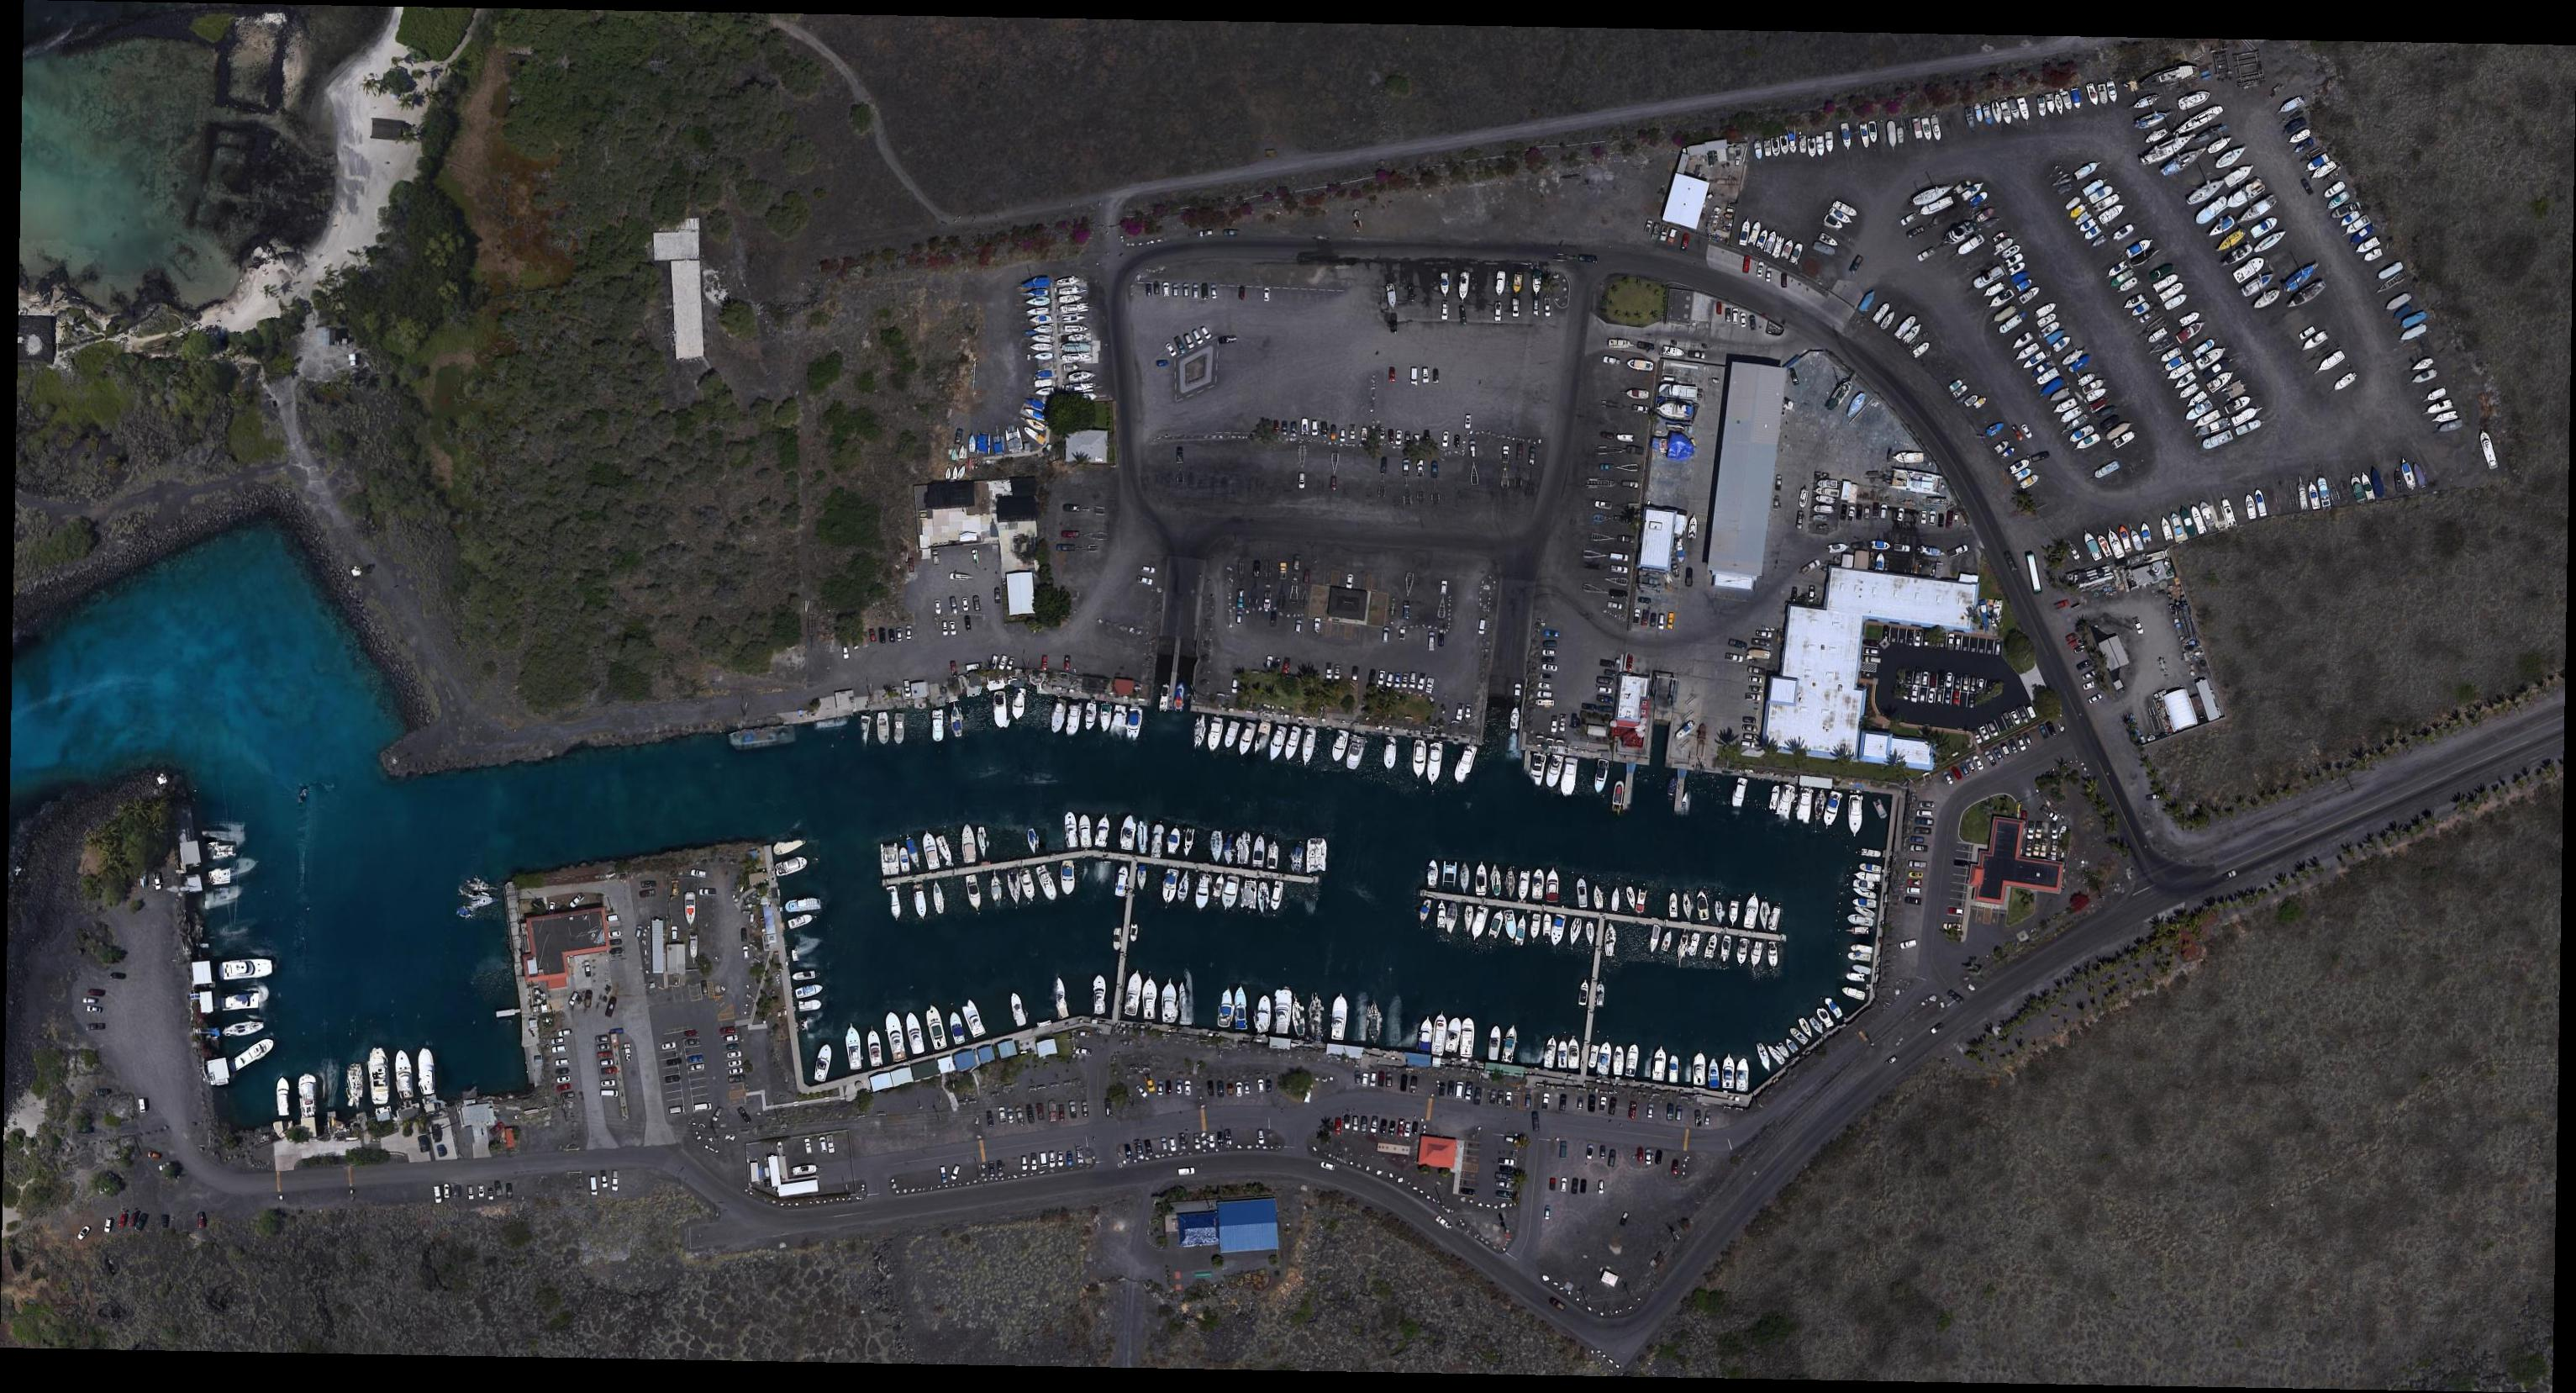ship: (2137, 131, 2194, 171), (226, 1036, 278, 1075), (2137, 61, 2200, 93), (2171, 104, 2225, 140), (2159, 144, 2208, 180), (728, 726, 796, 750), (2236, 193, 2279, 227), (2184, 176, 2227, 208), (2287, 277, 2328, 311), (2282, 260, 2323, 294), (368, 1048, 392, 1105), (206, 856, 259, 881), (2193, 195, 2231, 230), (2226, 178, 2267, 210), (923, 1003, 949, 1052), (884, 1012, 909, 1063), (1451, 743, 1479, 786), (1825, 375, 1857, 413), (392, 1049, 415, 1102), (1941, 219, 1980, 249), (220, 958, 273, 980), (202, 883, 245, 910), (960, 999, 988, 1039), (2231, 254, 2267, 286), (2239, 270, 2275, 301), (1122, 968, 1145, 1017), (1272, 989, 1294, 1037), (1034, 863, 1061, 904), (2251, 228, 2289, 256), (903, 1011, 927, 1056), (1911, 183, 1954, 208), (844, 1022, 865, 1072), (1329, 994, 1350, 1041), (2213, 144, 2247, 172), (417, 1048, 437, 1096), (2132, 109, 2172, 134), (811, 1043, 835, 1084), (2220, 243, 2253, 271), (2222, 162, 2256, 190), (1343, 734, 1368, 771), (1557, 756, 1579, 798), (1266, 725, 1289, 763), (1973, 265, 2006, 292), (771, 833, 808, 857), (2479, 430, 2500, 472), (1430, 1013, 1450, 1058), (1931, 204, 1967, 230), (2214, 228, 2247, 255), (2315, 349, 2347, 376), (2176, 88, 2212, 113), (1821, 790, 1843, 830), (2193, 122, 2228, 146), (2175, 319, 2207, 346), (1918, 196, 1956, 219), (1219, 875, 1241, 913), (921, 831, 942, 872), (1657, 383, 1699, 403), (1425, 741, 1444, 786), (774, 856, 810, 879), (1289, 999, 1309, 1039), (1500, 1024, 1520, 1064), (866, 1026, 885, 1068), (224, 1020, 266, 1039), (2205, 214, 2236, 240), (1250, 721, 1272, 757), (1469, 905, 1490, 943), (1052, 978, 1071, 1021), (346, 1063, 364, 1107), (1776, 784, 1799, 819), (1656, 401, 1694, 421), (1047, 698, 1068, 735), (299, 1074, 318, 1116), (2097, 202, 2126, 228), (1309, 995, 1325, 1042), (2299, 329, 2330, 354), (199, 822, 245, 839), (1160, 868, 1181, 905), (1956, 234, 1987, 258), (1329, 729, 1351, 763), (1205, 715, 1225, 752), (2252, 288, 2282, 313), (2184, 398, 2214, 424), (1009, 992, 1030, 1027), (2197, 345, 2226, 370), (2105, 527, 2127, 561), (1283, 726, 1303, 762), (1794, 788, 1815, 824), (1307, 838, 1327, 874), (1459, 1018, 1477, 1059), (1179, 981, 1195, 1026), (1729, 777, 1752, 809), (1527, 753, 1548, 788), (2250, 215, 2279, 240), (221, 993, 260, 1011), (2124, 237, 2154, 261), (1217, 989, 1235, 1029), (1193, 876, 1213, 911), (1162, 979, 1177, 1023), (1444, 1016, 1462, 1053), (462, 875, 498, 894), (1742, 894, 1762, 930), (1019, 867, 1038, 903), (1847, 794, 1863, 838), (1366, 1003, 1383, 1042), (1237, 722, 1257, 757), (1544, 755, 1564, 789), (2073, 159, 2103, 182), (1005, 868, 1024, 905), (965, 874, 983, 911), (1119, 815, 1137, 852), (2399, 456, 2418, 492), (904, 835, 924, 870), (1893, 314, 1918, 340), (2310, 160, 2338, 183), (935, 834, 956, 866), (1593, 759, 1611, 795), (2219, 381, 2248, 404), (948, 1010, 967, 1045), (1549, 914, 1568, 948), (1141, 977, 1156, 1021), (2158, 281, 2186, 304), (1846, 391, 1869, 419), (1416, 1017, 1435, 1053), (2348, 473, 2368, 507), (1239, 879, 1259, 911), (879, 843, 899, 875), (1595, 1042, 1614, 1076), (1094, 814, 1113, 848), (1300, 728, 1317, 766), (1988, 288, 2015, 310), (2331, 371, 2359, 393), (2207, 370, 2235, 393), (2092, 193, 2120, 214), (1234, 986, 1248, 1030), (1673, 933, 1691, 968), (1651, 1045, 1667, 1082), (2073, 432, 2102, 453), (2384, 292, 2414, 313), (2376, 273, 2405, 294), (2178, 505, 2198, 537), (1256, 995, 1272, 1034), (2083, 531, 2104, 562), (2349, 225, 2376, 248), (2345, 214, 2372, 237), (2331, 202, 2362, 222), (961, 824, 977, 864), (930, 881, 948, 915), (276, 1078, 292, 1116), (2167, 361, 2195, 383), (1998, 314, 2023, 337), (2400, 324, 2429, 344), (2197, 499, 2217, 529), (1065, 704, 1083, 737), (2039, 376, 2065, 398), (2325, 190, 2351, 213), (2152, 272, 2179, 294), (2206, 135, 2233, 156), (2233, 404, 2260, 426), (2189, 505, 2209, 536), (2014, 342, 2041, 363), (1235, 831, 1251, 866), (1175, 870, 1193, 903), (1063, 812, 1079, 848), (2400, 310, 2428, 330), (2377, 261, 2405, 282), (2369, 467, 2388, 499), (2359, 470, 2378, 501), (1755, 1042, 1773, 1073), (2203, 430, 2234, 449), (1901, 321, 1924, 346), (1488, 1025, 1503, 1063), (784, 898, 822, 913), (2064, 412, 2091, 433), (2094, 460, 2120, 481), (2021, 350, 2048, 371), (2109, 269, 2136, 290), (1827, 206, 1854, 227), (1541, 1036, 1558, 1069), (1191, 715, 1208, 748), (2068, 424, 2096, 444), (1125, 709, 1144, 739), (1487, 910, 1505, 940), (2199, 417, 2229, 435), (2225, 393, 2252, 414), (1961, 180, 1985, 203), (1413, 740, 1427, 778), (2060, 347, 2085, 369), (1625, 1043, 1641, 1078), (912, 890, 930, 921), (2035, 367, 2061, 388), (2220, 498, 2238, 527), (787, 912, 816, 931), (1223, 720, 1241, 749), (2148, 262, 2175, 282), (2081, 177, 2108, 198), (949, 704, 965, 738), (2131, 93, 2162, 111), (1150, 824, 1165, 859), (2068, 353, 2092, 375), (2105, 421, 2131, 442), (2322, 179, 2347, 200), (1093, 974, 1106, 1016), (2058, 404, 2084, 425), (2089, 185, 2115, 205), (2279, 96, 2305, 116), (2355, 236, 2382, 256), (1006, 426, 1025, 453), (1567, 918, 1584, 947), (1748, 941, 1766, 970), (993, 691, 1007, 727), (2018, 285, 2042, 306), (1871, 301, 1892, 325), (2185, 389, 2210, 410), (1444, 902, 1460, 934), (1270, 879, 1286, 911), (1993, 304, 2018, 325), (1857, 289, 1878, 314), (2164, 292, 2189, 312), (2305, 153, 2331, 173), (1610, 780, 1625, 814), (988, 873, 1005, 903), (1061, 860, 1075, 895), (2052, 397, 2078, 416), (1832, 199, 1858, 219), (1383, 737, 1398, 770), (1023, 425, 1046, 446), (1824, 996, 1845, 1020), (1736, 1058, 1750, 1092), (1251, 835, 1266, 869), (1545, 868, 1559, 903), (2010, 331, 2035, 351), (2173, 372, 2198, 392), (2144, 126, 2168, 146), (1815, 1005, 1836, 1030), (2194, 336, 2218, 356), (1847, 911, 1875, 929), (856, 715, 872, 747), (1114, 864, 1130, 896), (1012, 688, 1026, 721), (1078, 815, 1093, 848), (2111, 223, 2135, 243), (461, 894, 496, 908), (1722, 1054, 1736, 1090), (2111, 430, 2136, 450), (2317, 477, 2332, 508), (795, 984, 824, 1000), (1695, 892, 1711, 921), (2193, 411, 2220, 428), (1766, 1044, 1787, 1066), (2178, 382, 2200, 402), (2339, 208, 2362, 229), (2118, 525, 2134, 553), (208, 843, 236, 859), (1514, 915, 1528, 947), (888, 890, 903, 922), (684, 892, 697, 928), (2038, 320, 2062, 340), (2426, 399, 2453, 416), (877, 712, 890, 746), (1685, 932, 1702, 959), (1703, 934, 1720, 961), (2034, 301, 2058, 319), (2178, 310, 2202, 329), (2287, 129, 2312, 146), (2297, 477, 2310, 512), (1417, 899, 1433, 926), (1788, 1025, 1809, 1046), (2052, 334, 2073, 354), (2031, 359, 2054, 378), (2105, 261, 2128, 280), (2018, 473, 2041, 492), (1738, 217, 1752, 247), (1812, 790, 1826, 820), (1504, 910, 1518, 940), (1528, 914, 1542, 944), (1266, 842, 1281, 871), (1167, 827, 1182, 856), (1181, 829, 1196, 857), (2122, 294, 2147, 312), (2159, 515, 2175, 542), (2412, 462, 2428, 489), (1841, 986, 1867, 1002), (1604, 925, 1618, 957), (1767, 905, 1783, 932), (2097, 534, 2114, 559), (1762, 230, 1779, 256), (1023, 406, 1048, 423), (1694, 1053, 1706, 1086), (932, 710, 945, 743), (2237, 419, 2263, 436), (1968, 189, 1990, 208), (1910, 340, 1931, 360), (1818, 230, 1840, 250), (2294, 137, 2316, 156), (2254, 488, 2268, 518), (1648, 925, 1662, 954), (1974, 206, 1997, 224), (2117, 276, 2140, 294), (2164, 355, 2187, 373), (1797, 1016, 1815, 1039), (1209, 831, 1223, 862), (1747, 220, 1763, 246), (2412, 369, 2438, 385), (2082, 378, 2105, 396), (2007, 458, 2031, 476), (1490, 864, 1503, 897), (1111, 704, 1128, 729), (1872, 796, 1889, 820), (1457, 272, 1472, 301), (1625, 359, 1654, 373), (2438, 419, 2465, 435), (1612, 1046, 1625, 1076), (1290, 847, 1305, 873), (1994, 237, 2015, 256), (1824, 213, 1845, 232), (1475, 862, 1487, 896), (2045, 328, 2067, 346), (1878, 310, 1897, 332), (2049, 386, 2072, 404), (2160, 347, 2183, 365), (2084, 386, 2108, 403), (2308, 482, 2321, 511), (1568, 1037, 1580, 1070), (1083, 702, 1097, 731), (893, 713, 906, 744), (1518, 870, 1530, 901), (2130, 528, 2146, 552), (2147, 327, 2168, 346), (2152, 337, 2173, 356), (1674, 722, 1695, 741), (2000, 244, 2022, 261), (1984, 420, 2006, 438), (1852, 887, 1878, 901), (1719, 935, 1733, 962), (1840, 123, 1853, 151), (1222, 836, 1235, 864), (1983, 282, 2005, 298), (1664, 776, 1679, 801), (2016, 97, 2031, 122), (1531, 869, 1544, 900), (2426, 388, 2449, 404), (816, 718, 848, 730), (1068, 371, 1096, 384), (1853, 870, 1881, 884), (1736, 939, 1750, 967), (1929, 114, 1942, 142), (2170, 511, 2184, 537), (1385, 283, 1399, 309), (1767, 785, 1782, 811), (1771, 235, 1786, 260), (2085, 82, 2100, 107), (1667, 1055, 1680, 1084), (2131, 301, 2151, 319), (1789, 243, 1804, 266), (1885, 120, 1897, 150), (1577, 879, 1588, 909), (2036, 312, 2057, 329), (1577, 981, 1590, 1007), (1099, 704, 1112, 731), (1061, 383, 1093, 394), (1137, 821, 1148, 853), (2411, 358, 2436, 372), (798, 999, 823, 1013), (1989, 101, 2004, 125), (1212, 875, 1226, 900), (1894, 451, 1924, 463), (1709, 1058, 1720, 1088), (977, 827, 989, 857), (1659, 931, 1674, 953), (1258, 882, 1269, 913), (2393, 304, 2413, 321), (2363, 247, 2384, 264), (2245, 494, 2258, 520), (1588, 1044, 1601, 1069), (1809, 1016, 1825, 1037), (1999, 101, 2013, 126), (1635, 889, 1648, 914), (1592, 886, 1605, 911), (1026, 827, 1039, 854), (2053, 173, 2073, 190), (1918, 544, 1945, 557), (2105, 81, 2120, 104), (1780, 239, 1795, 261), (1025, 417, 1046, 432), (1158, 684, 1171, 710), (1624, 885, 1637, 910), (1024, 277, 1051, 288), (1681, 892, 1693, 920), (1427, 860, 1439, 888), (2004, 252, 2024, 269), (2083, 225, 2103, 242), (2007, 98, 2021, 121), (1729, 901, 1741, 926), (1061, 353, 1093, 363), (1756, 229, 1770, 251), (1557, 1040, 1568, 1068), (1505, 868, 1516, 897), (2008, 261, 2026, 277), (2078, 218, 2097, 234), (2435, 411, 2459, 424), (898, 848, 911, 873), (1625, 389, 1651, 401), (792, 970, 818, 982), (2013, 467, 2033, 483), (1851, 963, 1873, 977), (1460, 864, 1470, 894), (1854, 905, 1875, 919), (1993, 439, 2010, 456), (793, 1164, 818, 1176), (1662, 345, 1685, 357), (1608, 338, 1633, 350), (1062, 343, 1092, 353), (1060, 304, 1089, 314), (1509, 708, 1521, 731), (1920, 118, 1933, 141), (1859, 124, 1871, 149), (2073, 211, 2092, 227), (2068, 203, 2087, 219), (2064, 196, 2083, 212), (1775, 1042, 1791, 1060), (1982, 216, 2000, 232), (1464, 905, 1475, 932), (1767, 942, 1778, 968), (2078, 372, 2097, 388), (2138, 310, 2157, 325), (2067, 541, 2082, 560), (1847, 952, 1872, 963), (1852, 879, 1876, 891), (1173, 683, 1184, 710), (2061, 91, 2074, 112), (1760, 901, 1770, 929), (1687, 516, 1699, 540), (1859, 863, 1883, 874), (1850, 943, 1873, 955), (2015, 278, 2034, 293), (1496, 271, 1507, 296), (1815, 487, 1841, 498), (1585, 921, 1596, 947), (2053, 94, 2066, 116), (1610, 887, 1621, 912), (1748, 649, 1771, 661), (1784, 1037, 1799, 1055), (1681, 792, 1693, 815), (2097, 83, 2109, 106), (1989, 230, 2007, 245), (1061, 313, 1085, 324), (1853, 898, 1878, 909), (1136, 866, 1147, 890), (2141, 522, 2152, 544), (2071, 87, 2083, 109), (1437, 901, 1446, 929), (1512, 273, 1525, 293), (2297, 327, 2317, 340), (690, 935, 698, 964), (1964, 108, 1976, 129), (2394, 469, 2405, 493), (1846, 926, 1871, 937), (1973, 395, 1989, 410), (1952, 384, 1968, 399), (1845, 972, 1867, 983), (1861, 847, 1883, 858), (1753, 141, 1764, 163), (1912, 118, 1923, 140), (1799, 488, 1810, 509), (1871, 541, 1891, 552), (1113, 928, 1123, 952), (1982, 105, 1994, 125), (1973, 103, 1984, 124), (1059, 288, 1087, 296), (2045, 93, 2056, 114), (1948, 378, 1963, 393), (1532, 273, 1542, 296), (1867, 121, 1878, 144), (1963, 394, 1979, 409), (2091, 235, 2107, 249), (1543, 914, 1551, 941), (1669, 893, 1678, 917), (1874, 553, 1887, 571), (1817, 479, 1839, 489), (1815, 495, 1837, 505), (1771, 137, 1782, 157), (2037, 97, 2047, 119), (1441, 272, 1450, 296), (1056, 277, 1080, 286), (1027, 297, 1051, 306), (1825, 132, 1835, 156), (1828, 544, 1849, 554), (1814, 504, 1835, 514), (956, 464, 969, 481), (1065, 325, 1089, 333), (1597, 983, 1605, 1007), (1780, 135, 1790, 156), (1676, 541, 1685, 563), (1030, 315, 1052, 325), (1715, 901, 1724, 923), (1059, 295, 1083, 303), (1030, 343, 1054, 351), (1031, 334, 1052, 343), (1788, 133, 1797, 154), (1683, 1060, 1691, 1083), (1130, 923, 1139, 943), (2002, 447, 2016, 460), (1078, 393, 1098, 403), (1028, 288, 1049, 297), (1816, 135, 1825, 156), (1027, 308, 1050, 315), (1034, 325, 1054, 334), (1035, 388, 1056, 396), (1808, 138, 1816, 158), (1035, 351, 1054, 360), (1035, 370, 1054, 378), (1035, 379, 1054, 388), (1068, 335, 1088, 342), (1799, 135, 1807, 155), (1764, 140, 1773, 157), (969, 435, 977, 452), (1064, 364, 1079, 372), (1898, 128, 1904, 145), (958, 445, 965, 460), (945, 467, 952, 480), (951, 449, 958, 461), (953, 466, 958, 479)
